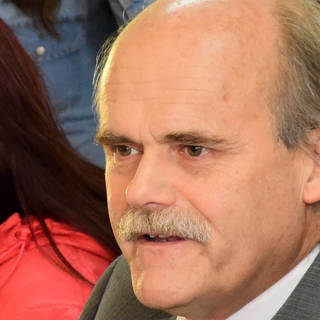eye: (169, 139, 219, 163), (107, 142, 146, 161)
